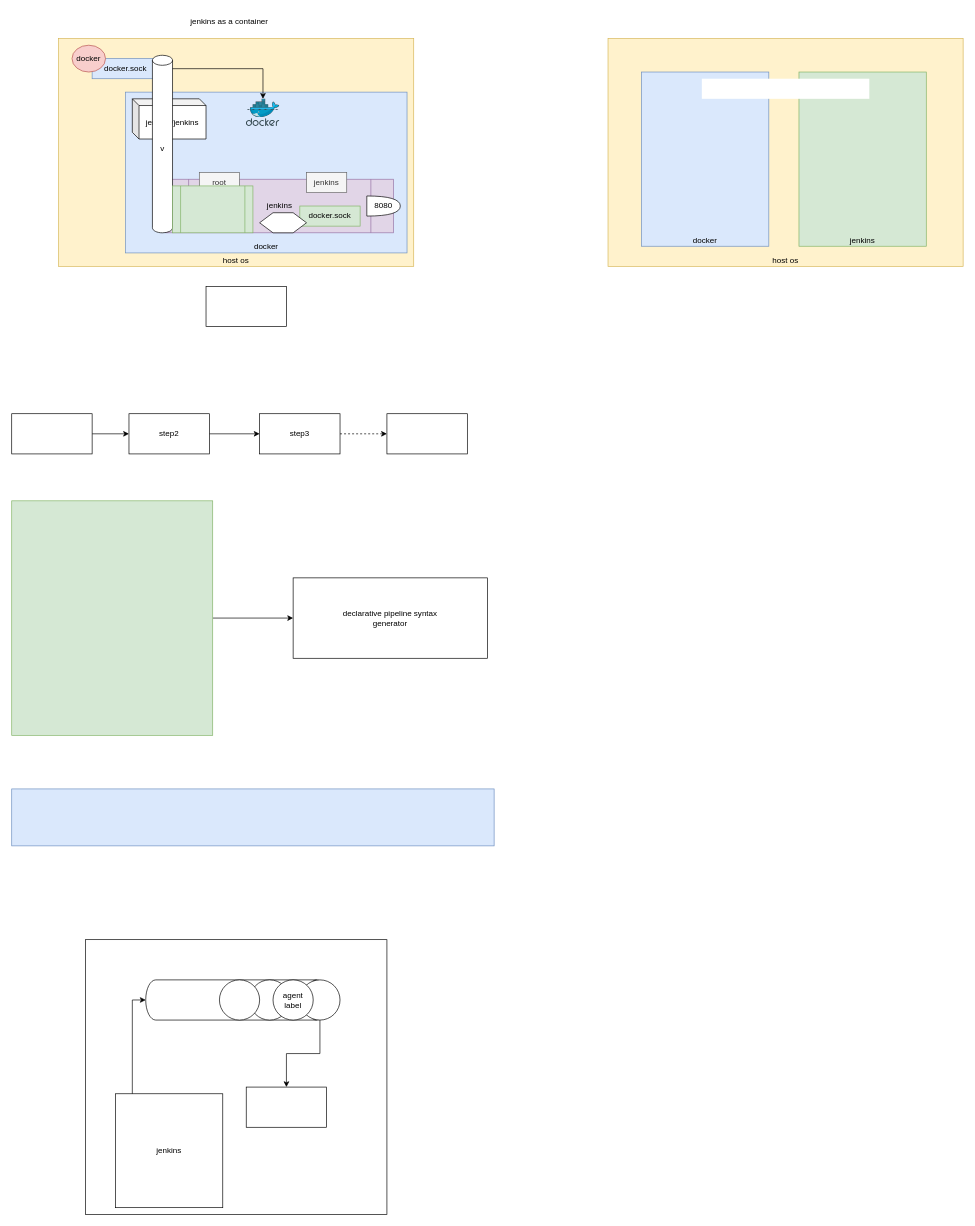
Image size: 975x1226. Some labels were removed from this diagram. The centre of each missing label's shape, as x and y in pixels:
"cicd pipeline" goes at [245,306].
"groovy" goes at [112,617].
"image" goes at [283,222].
"node1" goes at [286,1106].
"Plugin" goes at [252,817].
"slave" goes at [212,209].
"step N" goes at [426,433].
"step1" goes at [51,433].
"usermod -aG docker jenkins" goes at [785,88].
